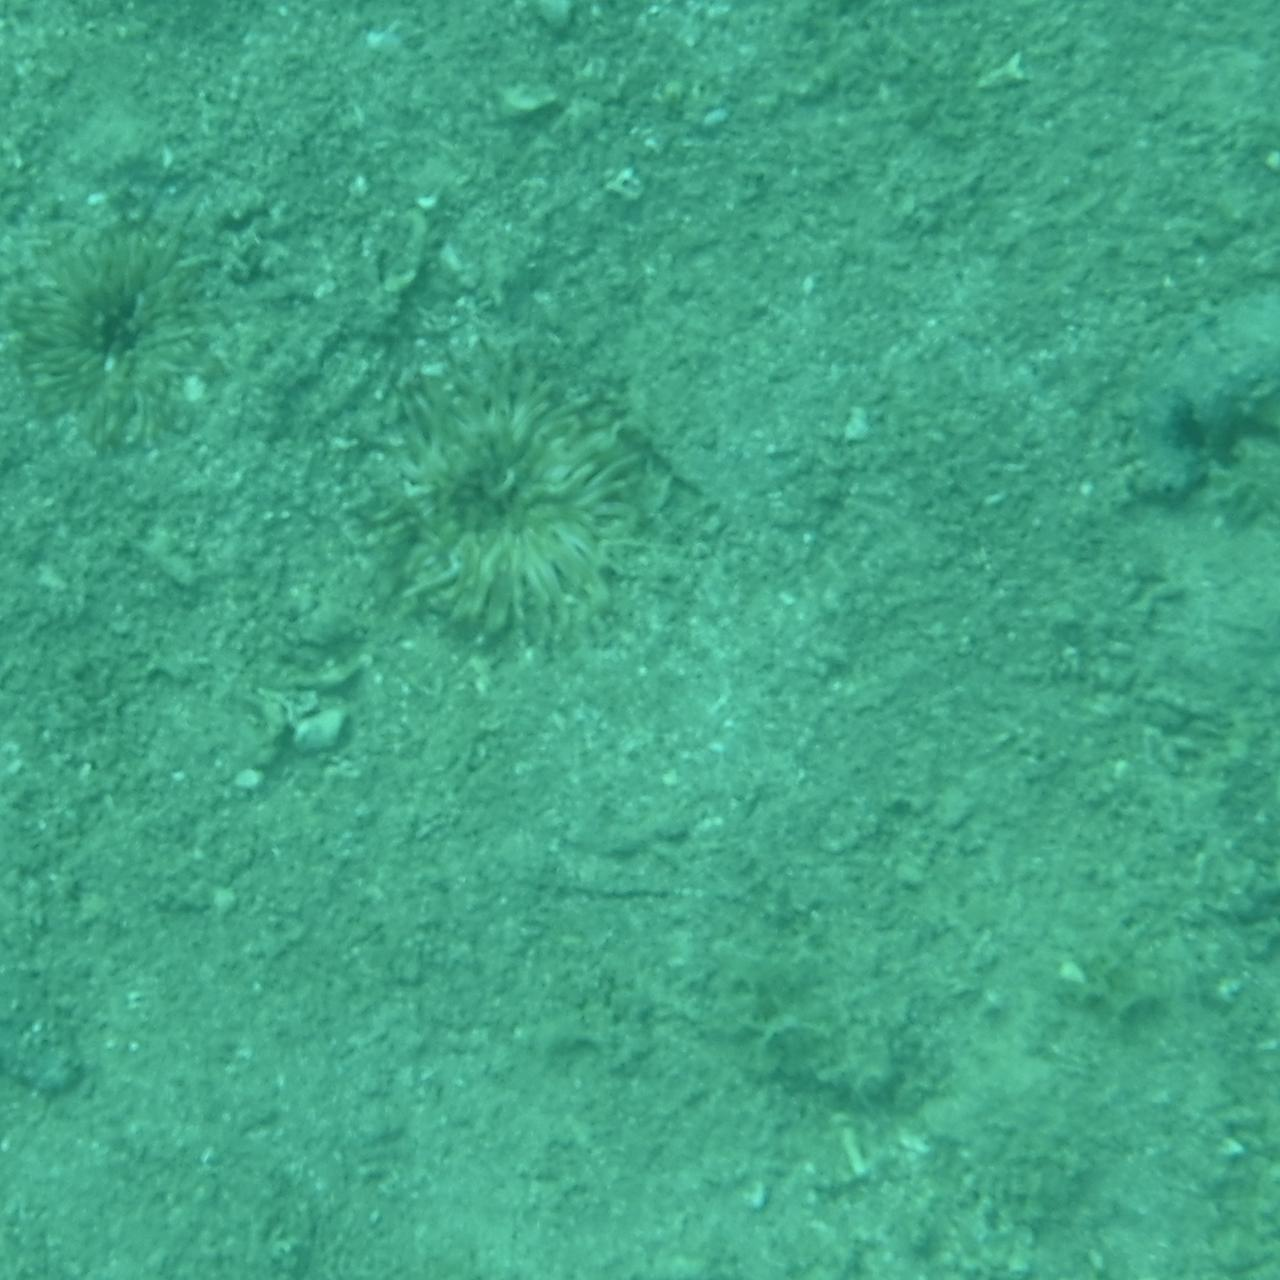Condylactis aurantiaca: (306, 347, 721, 681), (0, 202, 230, 456)
Holothuria tubulosa: (1042, 281, 1280, 538), (0, 791, 179, 1111)
